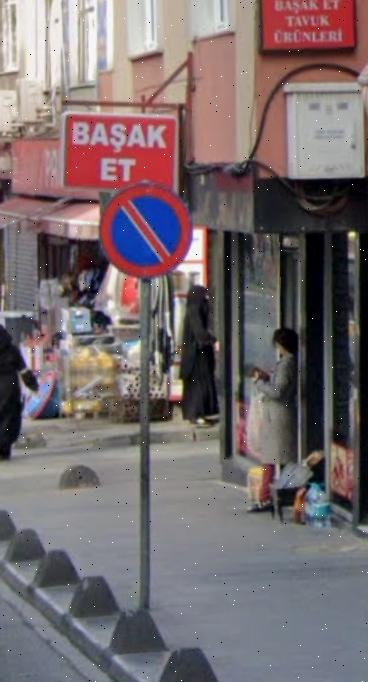nopark: (102, 186, 191, 273)
